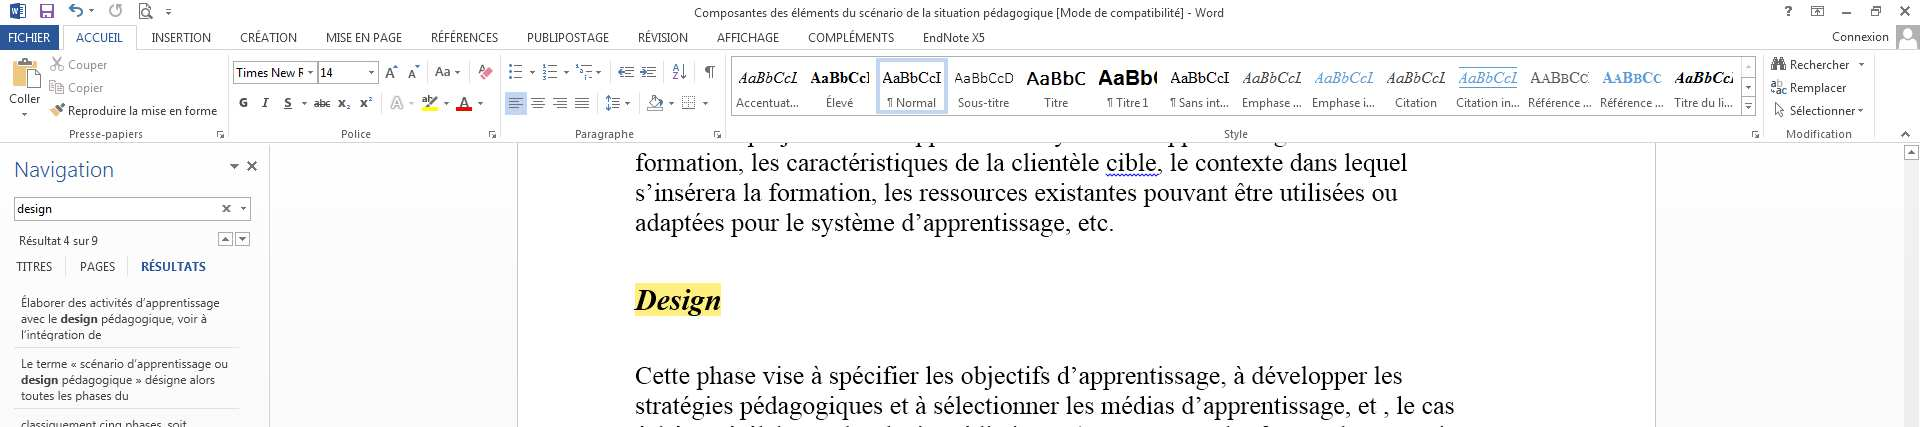texte: (69, 91, 247, 117), (902, 213, 1070, 237), (1058, 366, 1224, 390), (1182, 396, 1349, 420), (787, 153, 947, 177), (740, 396, 882, 420), (1251, 366, 1367, 390), (70, 117, 142, 150), (636, 396, 732, 420), (636, 153, 743, 174), (769, 184, 876, 204), (830, 366, 920, 390), (636, 213, 724, 237), (961, 366, 1049, 390), (934, 396, 1059, 414), (16, 162, 113, 182), (1144, 185, 1227, 207), (1035, 184, 1136, 201), (812, 217, 894, 237), (636, 184, 735, 201), (1011, 153, 1100, 171), (76, 20, 122, 53), (1344, 153, 1407, 177), (1280, 184, 1364, 201), (697, 366, 756, 390), (1196, 155, 1283, 171), (20, 223, 61, 256), (920, 188, 1027, 201), (311, 61, 351, 93), (1101, 396, 1174, 414), (1107, 153, 1162, 174), (233, 69, 332, 80), (1703, 84, 1734, 117), (1224, 130, 1283, 147), (129, 358, 211, 371), (421, 95, 482, 111), (1771, 58, 1849, 70), (1108, 98, 1220, 106), (60, 420, 186, 427), (636, 367, 689, 384), (136, 299, 219, 310), (731, 219, 779, 237), (62, 374, 132, 387), (1100, 70, 1157, 84), (1291, 153, 1336, 171), (1111, 9, 1183, 20), (696, 9, 767, 20), (1027, 71, 1085, 84), (102, 314, 171, 325), (763, 366, 804, 384), (984, 9, 1053, 20), (284, 98, 350, 109), (809, 33, 894, 42), (528, 33, 609, 42), (142, 259, 204, 270), (22, 330, 84, 341), (1791, 83, 1847, 95), (673, 64, 715, 80), (811, 72, 869, 83), (1171, 72, 1229, 83), (1313, 98, 1365, 110), (740, 72, 797, 83), (883, 72, 940, 83), (955, 72, 1013, 83), (1243, 72, 1300, 83), (1387, 72, 1445, 83), (1675, 72, 1733, 83), (1236, 184, 1272, 201), (1531, 72, 1587, 83), (1791, 106, 1862, 115), (1318, 72, 1373, 83), (1605, 72, 1660, 83), (13, 54, 40, 76), (1243, 98, 1291, 110), (576, 130, 633, 139), (432, 33, 497, 42), (1787, 130, 1851, 138), (27, 64, 45, 93), (1833, 32, 1888, 42), (718, 33, 779, 42), (1374, 366, 1402, 384), (924, 33, 984, 42), (51, 84, 65, 122), (152, 33, 211, 42), (1079, 217, 1113, 231), (752, 153, 779, 171), (146, 374, 186, 387), (926, 366, 953, 384), (241, 33, 296, 42), (736, 98, 790, 106), (885, 184, 912, 201), (1067, 396, 1093, 414), (1457, 98, 1510, 106), (21, 374, 58, 387), (1600, 98, 1652, 106), (959, 98, 1009, 106), (1529, 98, 1580, 106), (956, 153, 980, 171), (80, 358, 122, 368), (639, 33, 687, 42), (888, 98, 936, 106), (973, 20, 986, 53), (869, 84, 882, 117), (792, 9, 839, 17), (61, 314, 97, 325), (76, 392, 111, 403), (936, 9, 980, 17), (1057, 9, 1091, 20), (860, 9, 902, 17), (22, 299, 65, 307), (327, 33, 369, 42), (91, 299, 132, 307), (69, 4, 94, 17), (1396, 98, 1436, 106), (987, 153, 1005, 171), (786, 213, 804, 231), (1423, 403, 1453, 414), (1171, 153, 1188, 171), (1371, 188, 1397, 201), (16, 262, 51, 270), (81, 262, 115, 270), (1397, 396, 1414, 414), (21, 392, 54, 400), (10, 2, 26, 20), (744, 184, 760, 201), (24, 207, 51, 217), (10, 94, 40, 103), (37, 360, 67, 368), (231, 162, 257, 171), (891, 399, 909, 414), (1359, 399, 1376, 414), (1195, 9, 1223, 17), (342, 130, 370, 138), (190, 374, 214, 384), (827, 98, 853, 106), (69, 62, 105, 69), (375, 33, 400, 42), (435, 67, 460, 76), (727, 60, 733, 95), (1771, 81, 1787, 94), (140, 2, 152, 20), (1675, 98, 1698, 106), (479, 65, 492, 80), (1044, 98, 1067, 106), (42, 4, 54, 18), (682, 102, 707, 109), (1234, 366, 1244, 384), (76, 236, 97, 245), (916, 396, 926, 414), (812, 366, 820, 384), (771, 9, 789, 17), (69, 299, 86, 307), (223, 206, 246, 212), (1776, 102, 1784, 117), (22, 317, 44, 323), (313, 53, 320, 73), (178, 317, 197, 323), (115, 392, 129, 400), (842, 9, 855, 17), (907, 9, 920, 17), (1095, 9, 1107, 17), (59, 392, 71, 400), (22, 358, 32, 368), (89, 330, 100, 339), (222, 237, 245, 241), (386, 69, 394, 78), (426, 61, 429, 93), (469, 61, 471, 93), (49, 314, 58, 323), (216, 362, 227, 368), (84, 86, 98, 91), (923, 9, 931, 17), (262, 98, 269, 106), (217, 131, 224, 138), (489, 131, 496, 138), (714, 131, 721, 138), (1752, 131, 1760, 138), (409, 70, 415, 78), (1745, 103, 1752, 109), (22, 421, 29, 427), (18, 204, 23, 213), (369, 99, 372, 106), (853, 213, 860, 217), (1746, 86, 1751, 89), (696, 213, 700, 217), (917, 214, 921, 219), (71, 363, 76, 367), (136, 379, 141, 383), (1859, 62, 1864, 66), (1385, 412, 1389, 416), (167, 12, 171, 15), (369, 71, 373, 73), (204, 314, 206, 323), (394, 66, 397, 69), (416, 65, 419, 67), (1004, 213, 1007, 215), (1189, 13, 1191, 13)
